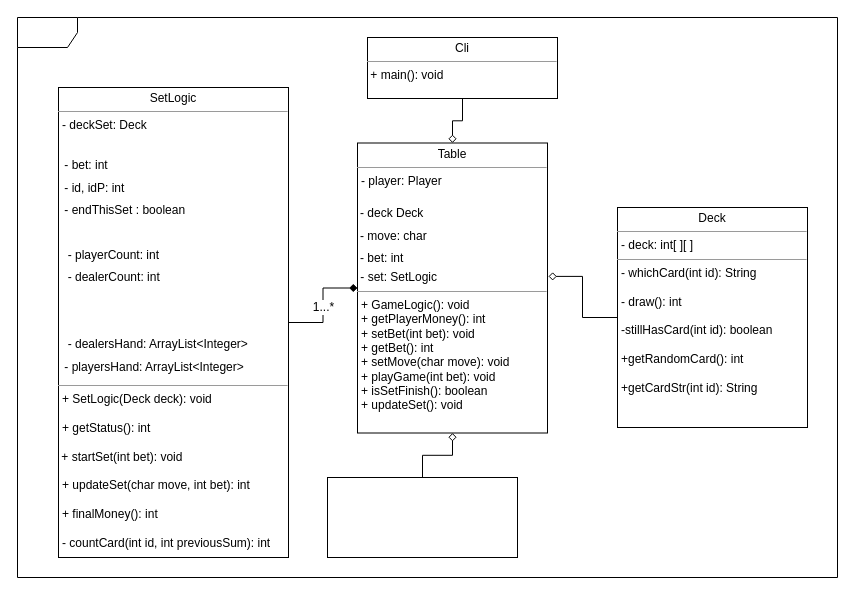
This 855x595 diagram has some shape labels left out. The box of each missing label's shape, as (x1, y1, x2, y2) in pixels:
BlackJack: (16, 16, 838, 578)
Player + getMoney(): void + setMoney ( int money ): void: (326, 476, 518, 558)
